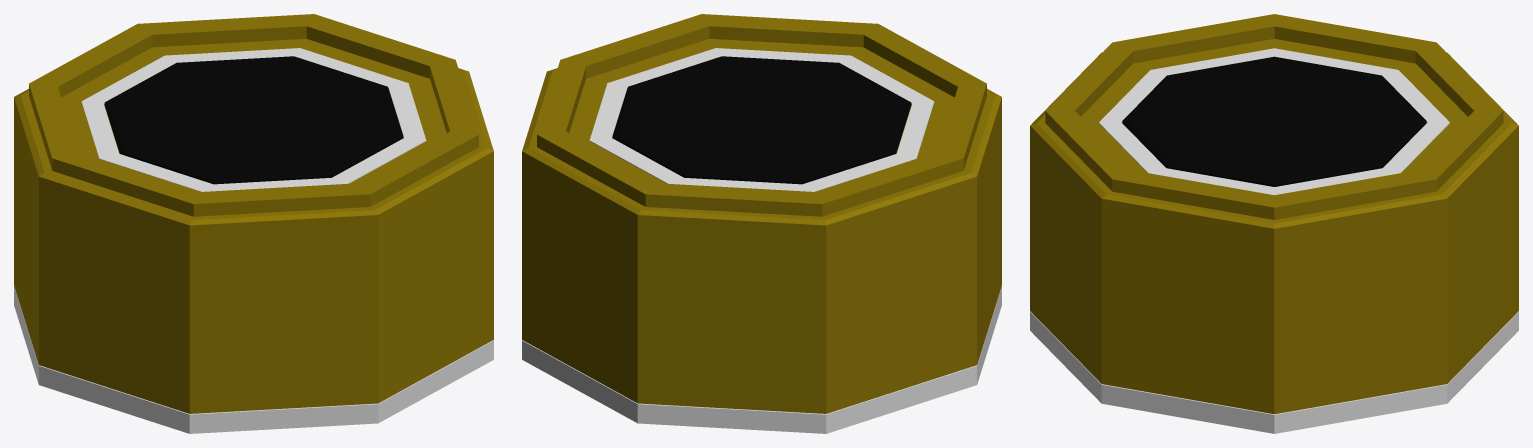
Rendered from basic.gold.fbx.
3 views of the same model, side by side, from view 1: azimuth 30°, elevation 25°; view 2: azimuth 150°, elevation 25°; view 3: azimuth 270°, elevation 25° (orthographic).
Parts seen in each view (by area): view 1: Cylinder, Cylinder.003, Cylinder.004, Cylinder.002; view 2: Cylinder, Cylinder.003, Cylinder.004, Cylinder.002; view 3: Cylinder, Cylinder.003, Cylinder.004, Cylinder.002.
Part boxes in pixels (<box>): Cylinder: <box>14,14,493,413</box>; Cylinder.003: <box>104,56,403,184</box>; Cylinder.004: <box>14,286,493,433</box>; Cylinder.002: <box>81,48,426,191</box>; Cylinder: <box>522,14,1001,413</box>; Cylinder.003: <box>612,56,911,184</box>; Cylinder.004: <box>522,286,1001,433</box>; Cylinder.002: <box>589,48,934,191</box>; Cylinder: <box>1030,14,1518,414</box>; Cylinder.003: <box>1122,56,1426,186</box>; Cylinder.004: <box>1030,311,1518,433</box>; Cylinder.002: <box>1099,48,1449,195</box>.
Size of the model in its own units: 223 by 111 by 223.
